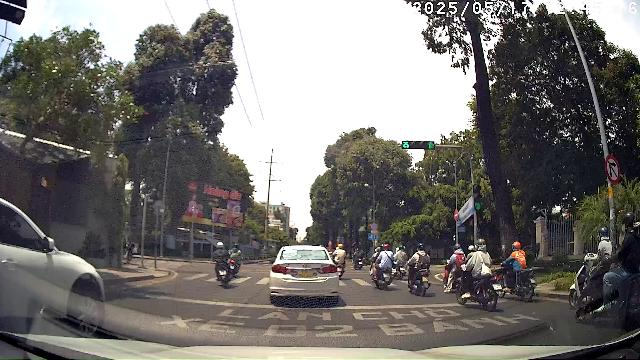123b-cam-re-phai: (604, 154, 620, 185)
